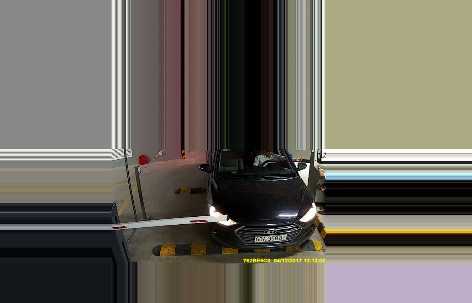plate: (256, 233, 286, 243)
